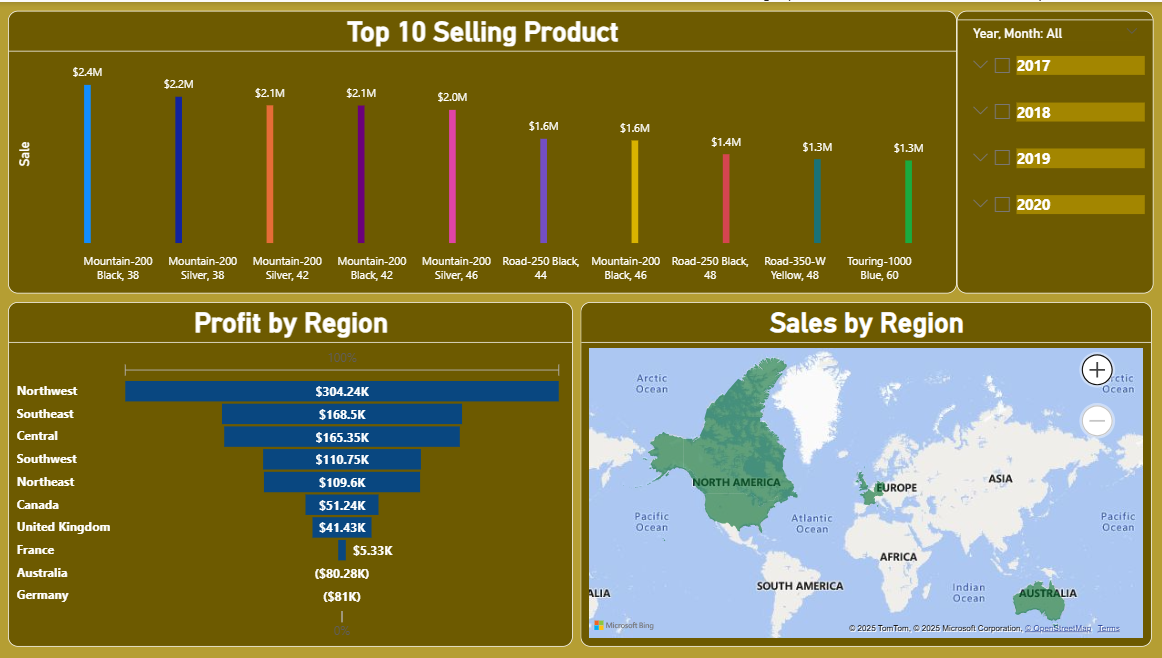

The page's visual inventory and layout, read from the dashboard file:
{"tool":"powerbi","page":{"name":"Page 3","canvas":[1280,720],"ordinal":2},"visuals":[{"type":"clusteredColumnChart","title":"Top 10 Selling Product","fields":{"Y":["Sum(Sales.Sale)"],"Category":["Sales.Product"],"Series":["Sales.Product"]},"box":[11.2,10,1041.2,310],"z":0},{"type":"funnel","title":"Profit by Region","fields":{"Category":["Sales.Region"],"Y":["Sales.profit"]},"box":[11.2,330,620,378.8],"z":1000},{"type":"filledMap","title":"Sales by Region","fields":{"Category":["Sales.Country"]},"box":[640,330,627.5,378.8],"z":2000},{"type":"slicer","fields":{"Values":["Sales.Order Date.Variation.Date Hierarchy.Year","Sales.Order Date.Variation.Date Hierarchy.Month"]},"box":[1052,10,216,310],"z":3000}]}

Visuals, with their boxes in screenshot pixels (x1, y1, x2, y2), scaled from the page's 1280x720 canvas onto the 1162x658 screenshot:
"Top 10 Selling Product" clusteredColumnChart: rect(10, 9, 955, 292)
"Profit by Region" funnel: rect(10, 302, 573, 648)
"Sales by Region" filledMap: rect(581, 302, 1151, 648)
slicer - Sales.Order Date.Variation.Date Hierarchy.Year x Sales.Order Date.Variation.Date Hierarchy.Month: rect(955, 9, 1151, 292)
